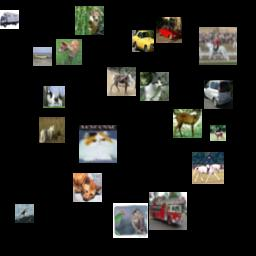airplane: (33, 47, 52, 66)
automobile: (204, 80, 233, 109), (156, 17, 182, 43), (132, 30, 154, 52)
bird: (113, 203, 148, 238), (15, 204, 34, 223)
cat: (79, 125, 117, 163), (73, 173, 102, 202), (140, 72, 169, 101), (39, 117, 65, 143)
deer: (75, 6, 104, 35), (173, 109, 202, 138), (107, 67, 136, 96), (210, 125, 226, 141)
dog: (56, 39, 82, 65), (43, 86, 65, 108)
truck: (149, 192, 187, 230), (0, 10, 19, 29)
